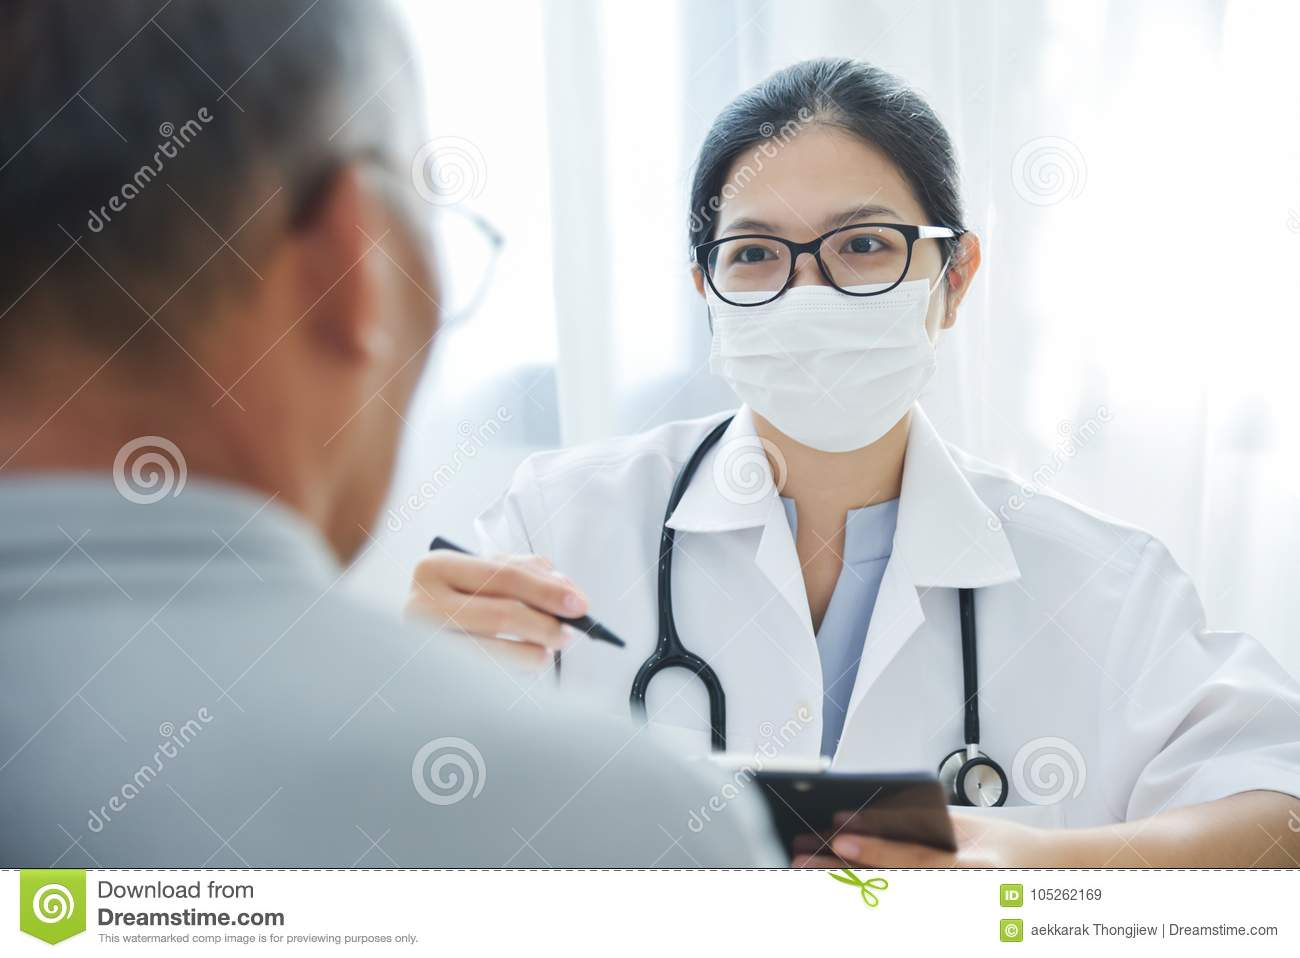mask: (707, 289, 941, 451)
